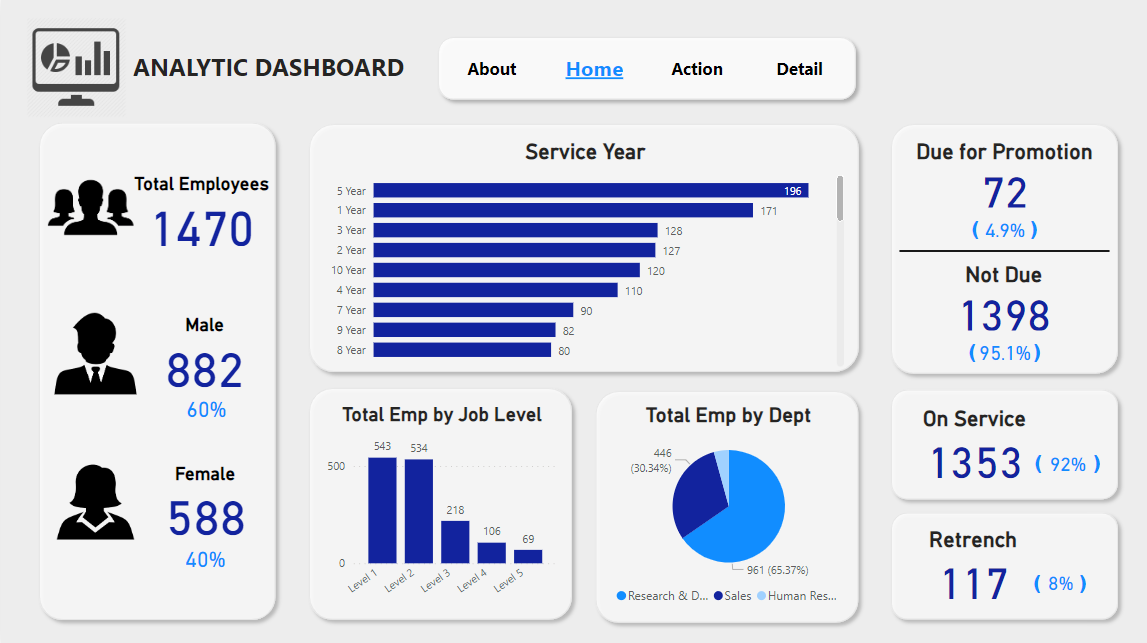

What the dashboard file says about the page in this screenshot:
{"tool":"powerbi","page":{"name":"Home","canvas":[1280,720],"ordinal":1},"visuals":[{"type":"image","box":[0,15,166.7,121.7],"z":0,"group":"g2"},{"type":"shape","box":[476.8,33.2,482.2,87.4],"z":0,"group":"g3"},{"type":"shape","box":[33,128.2,280.7,570.6],"z":0,"group":"g1"},{"type":"shape","box":[333.3,130,628.3,293.3],"z":0},{"type":"textbox","box":[141.7,51.7,340,60],"z":1000,"group":"g2"},{"type":"card","title":"Total Employees","fields":{"Values":["Sheet 1.Total emp"]},"box":[110.4,192.9,225.9,86.3],"z":1000,"group":"g1"},{"type":"shape","box":[980,425,270,140],"z":1000},{"type":"card","title":"Male","fields":{"Values":["Sheet 1.male_count"]},"box":[149.8,350.3,152.6,87.2],"z":2000,"group":"g1"},{"type":"shape","box":[980,561.7,270,136.7],"z":2000},{"type":"clusteredBarChart","title":"Service Year","fields":{"Category":["sheet 1.Service Year"],"Y":["Sum(sheet 1.EmployeeCount)"]},"box":[356.7,155,585,258.3],"z":3000},{"type":"card","title":"Female","fields":{"Values":["Sheet 1.Female_count"]},"box":[140.4,515,173.4,87.2],"z":3000,"group":"g1"},{"type":"shape","box":[980,130,270,295],"z":4000},{"type":"group","id":"g1","title":"Group 1","box":[13.6,128.2,322.6,570.6],"z":5000,"group":"g2"},{"type":"card","title":"On Service","fields":{"Values":["Sheet 1.On service"]},"box":[1015,451.7,133.3,88.3],"z":5000},{"type":"image","box":[40.6,170.2,118.7,124],"z":6000,"group":"g1"},{"type":"card","fields":{"Values":["Sheet 1.% On Service"]},"box":[1151.7,495,66.7,41.7],"z":6000},{"type":"image","box":[13.6,343.8,183.9,101.2],"z":7000,"group":"g1"},{"type":"card","title":"Retrench","fields":{"Values":["Sheet 1.Retreanch"]},"box":[1016.7,586.7,126.7,86.7],"z":7000},{"type":"image","box":[23.3,511.4,162.9,94.5],"z":8000,"group":"g1"},{"type":"card","fields":{"Values":["Sheet 1.% Retreanch"]},"box":[1148.3,633.3,58.3,31.7],"z":8000},{"type":"card","fields":{"Values":["Sheet 1.Male %"]},"box":[195.1,416.2,65.9,77.5],"z":9000,"group":"g1"},{"type":"shape","box":[333.3,423.3,310,275],"z":9000},{"type":"shape","box":[651.7,426.7,310,275],"z":10000},{"type":"card","fields":{"Values":["Sheet 1.Female %"]},"box":[197,602.2,60.3,38.7],"z":10000,"group":"g1"},{"type":"clusteredColumnChart","title":"Total Emp by Job Level","fields":{"Category":["sheet 1.Job Levels"],"Y":["Sum(sheet 1.EmployeeCount)"]},"box":[356.7,448.3,266.7,233.3],"z":11000},{"type":"pageNavigator","box":[494.3,52.3,448.2,50.9],"z":12000,"group":"g3"},{"type":"textbox","box":[1085,626.7,183.3,53.3],"z":12000},{"type":"pieChart","title":"Total Emp by Dept","fields":{"Category":["sheet 1.Department"],"Y":["Sum(sheet 1.EmployeeCount)"]},"box":[675,448.3,266.7,233.3],"z":13000},{"type":"card","title":"Due for Promotion","fields":{"Values":["Sheet 1.Due for promotion"]},"box":[980,155,270,81.7],"z":14000},{"type":"card","title":"Not Due","fields":{"Values":["Sheet 1.not due"]},"box":[1030,291.7,168.3,81.7],"z":15000},{"type":"group","id":"g2","title":"Group 3","box":[0,15,481.7,683.8],"z":16000},{"type":"group","id":"g3","title":"Group 2","box":[476.8,33.2,482.2,87.4],"z":17000},{"type":"shape","box":[998.3,263.3,233.3,33.3],"z":18000},{"type":"card","fields":{"Values":["Sheet 1.% Due for Promotion"]},"box":[1075,236.7,80,38.3],"z":19000},{"type":"card","fields":{"Values":["Sheet 1.% Not Due"]},"box":[1076.7,373.3,76.7,40],"z":20000},{"type":"textbox","box":[1073.3,233.3,103.3,51.7],"z":21000},{"type":"textbox","box":[1070,370,106.7,51.7],"z":22000},{"type":"textbox","box":[1143.3,493.3,106.7,51.7],"z":23000}]}

Visuals, with their boxes in screenshot pixels (x1, y1, x2, y2), scaled from the page's 1280x720 canvas onto the 1147x643 screenshot:
image: <bbox>0, 13, 149, 122</bbox>
shape: <bbox>427, 30, 859, 108</bbox>
shape: <bbox>30, 114, 281, 624</bbox>
shape: <bbox>299, 116, 862, 378</bbox>
textbox: <bbox>127, 46, 432, 100</bbox>
"Total Employees" card: <bbox>99, 172, 301, 249</bbox>
shape: <bbox>878, 380, 1120, 505</bbox>
"Male" card: <bbox>134, 313, 271, 391</bbox>
shape: <bbox>878, 502, 1120, 624</bbox>
"Service Year" clusteredBarChart: <bbox>320, 138, 844, 369</bbox>
"Female" card: <bbox>126, 460, 281, 538</bbox>
shape: <bbox>878, 116, 1120, 380</bbox>
"Group 1" group: <bbox>12, 114, 301, 624</bbox>
"On Service" card: <bbox>910, 403, 1029, 482</bbox>
image: <bbox>36, 152, 143, 263</bbox>
card - Sheet 1.% On Service: <bbox>1032, 442, 1092, 479</bbox>
image: <bbox>12, 307, 177, 397</bbox>
"Retrench" card: <bbox>911, 524, 1025, 601</bbox>
image: <bbox>21, 457, 167, 541</bbox>
card - Sheet 1.% Retreanch: <bbox>1029, 566, 1081, 594</bbox>
card - Sheet 1.Male %: <bbox>175, 372, 234, 441</bbox>
shape: <bbox>299, 378, 576, 624</bbox>
shape: <bbox>584, 381, 862, 627</bbox>
card - Sheet 1.Female %: <bbox>177, 538, 231, 572</bbox>
"Total Emp by Job Level" clusteredColumnChart: <bbox>320, 400, 559, 609</bbox>
pageNavigator: <bbox>443, 47, 845, 92</bbox>
textbox: <bbox>972, 560, 1137, 607</bbox>
"Total Emp by Dept" pieChart: <bbox>605, 400, 844, 609</bbox>
"Due for Promotion" card: <bbox>878, 138, 1120, 211</bbox>
"Not Due" card: <bbox>923, 261, 1074, 333</bbox>
"Group 3" group: <bbox>0, 13, 432, 624</bbox>
"Group 2" group: <bbox>427, 30, 859, 108</bbox>
shape: <bbox>895, 235, 1104, 265</bbox>
card - Sheet 1.% Due for Promotion: <bbox>963, 211, 1035, 246</bbox>
card - Sheet 1.% Not Due: <bbox>965, 333, 1034, 369</bbox>
textbox: <bbox>962, 208, 1054, 255</bbox>
textbox: <bbox>959, 330, 1054, 377</bbox>
textbox: <bbox>1025, 441, 1120, 487</bbox>
